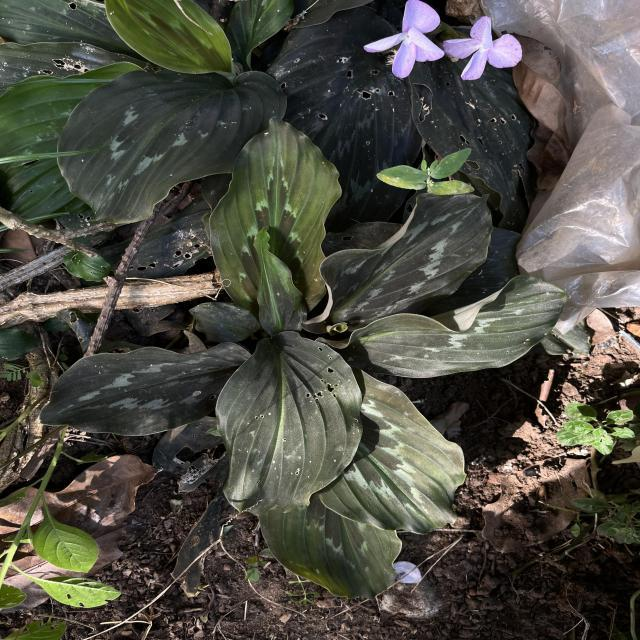Kaempferia galanga linn: (54, 66, 289, 228), (298, 190, 494, 336), (213, 330, 364, 518), (314, 272, 572, 380), (206, 115, 344, 316), (316, 362, 470, 536), (36, 340, 255, 438), (252, 223, 309, 336)
